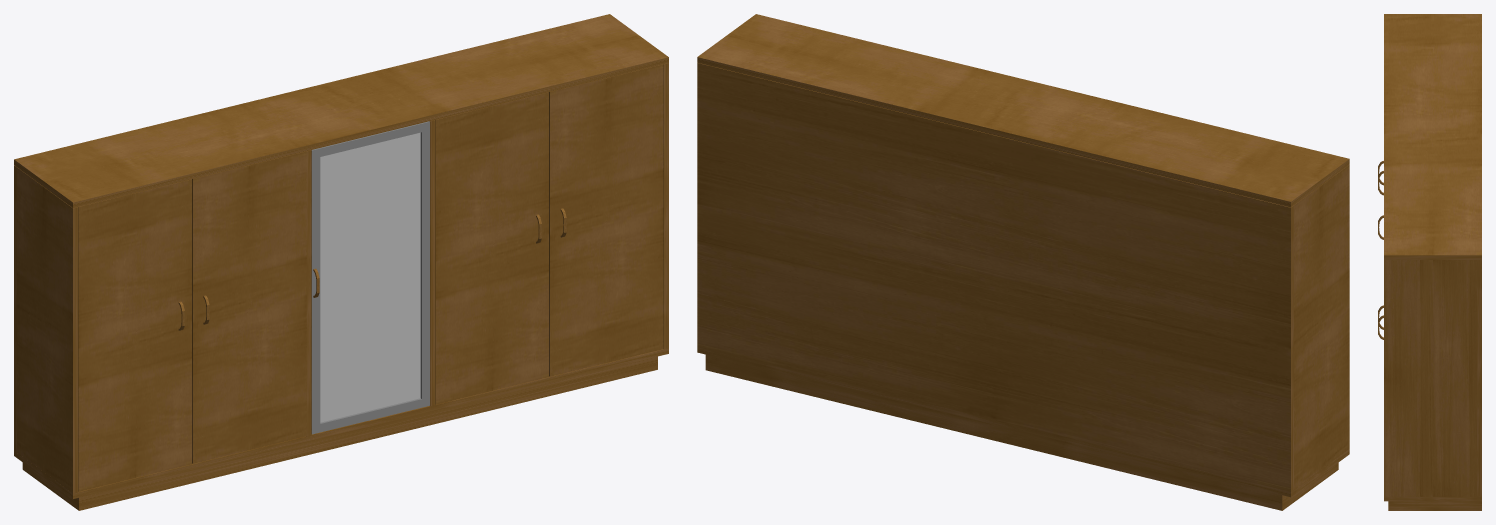
File: office_furniture1.obj
3 renders of one model, left to right at view 1: azimuth 30°, elevation 25°; view 2: azimuth 150°, elevation 25°; view 3: azimuth 270°, elevation 25°, orthographic. The views are drawn at different scales.
Visible parts, largest first — view 1: oficina_armario_Cube.014, glass_Cube; view 2: oficina_armario_Cube.014; view 3: oficina_armario_Cube.014.
Boxes of the visible parts, x1=… form: oficina_armario_Cube.014: x1=14, y1=14, x2=668, y2=510; glass_Cube: x1=320, y1=132, x2=420, y2=422; oficina_armario_Cube.014: x1=697, y1=14, x2=1349, y2=510; oficina_armario_Cube.014: x1=1378, y1=14, x2=1481, y2=510.
Size of the model in its own units: 2.99 by 1.5 by 0.5437.
